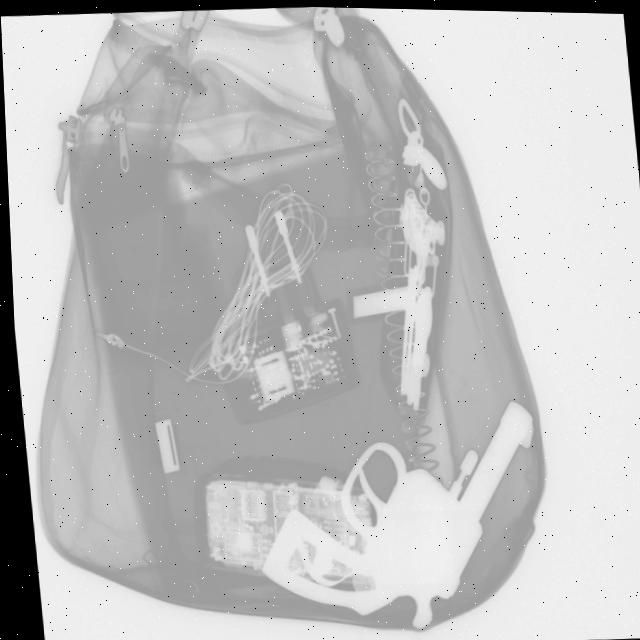pistol: (238, 388, 551, 640)
